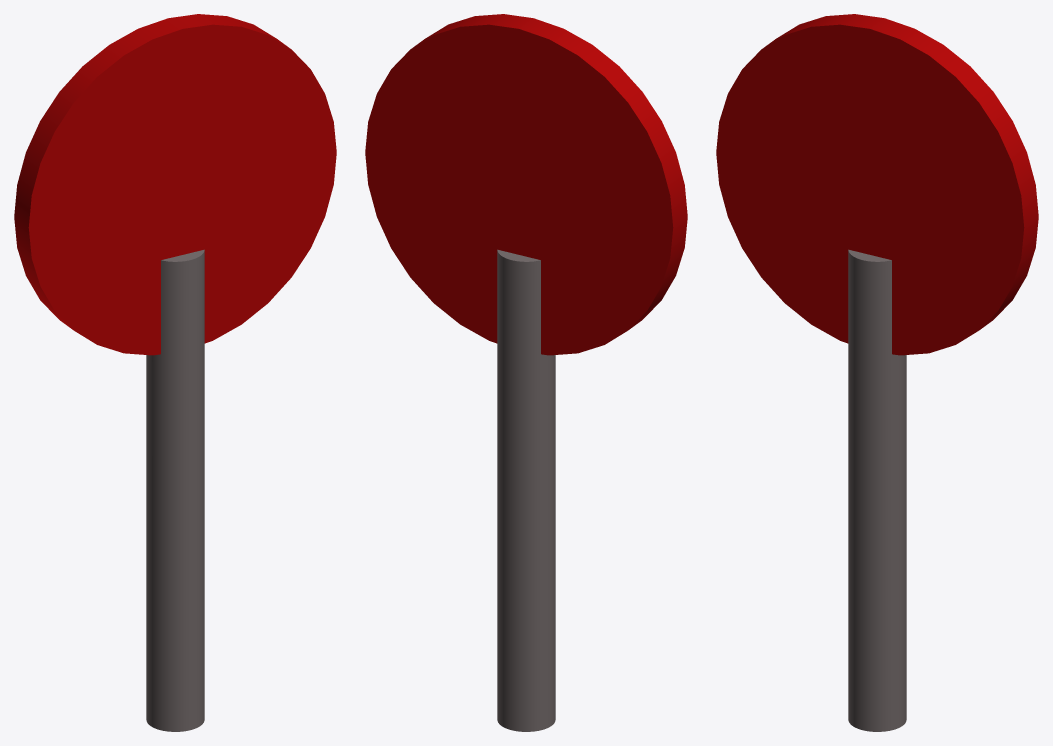
Rendered from goalie_stick.glb.
3 renders of one model, left to right at view 1: azimuth 30°, elevation 25°; view 2: azimuth 150°, elevation 25°; view 3: azimuth 330°, elevation 25°, orthographic.
Parts seen in each view (by area): view 1: Cylinder (×2); view 2: Cylinder (×2); view 3: Cylinder (×2).
Boxes of the visible parts, left/top/right/bottom form: Cylinder (×2): left=14, top=14, right=336, bottom=731; Cylinder (×2): left=365, top=14, right=687, bottom=731; Cylinder (×2): left=716, top=14, right=1038, bottom=731.
Bounding box in the file's own units: 0.6096 × 1.32 × 0.1.
